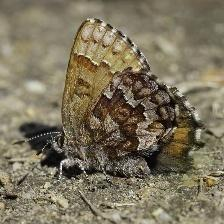butterfly: (52, 19, 204, 178)
